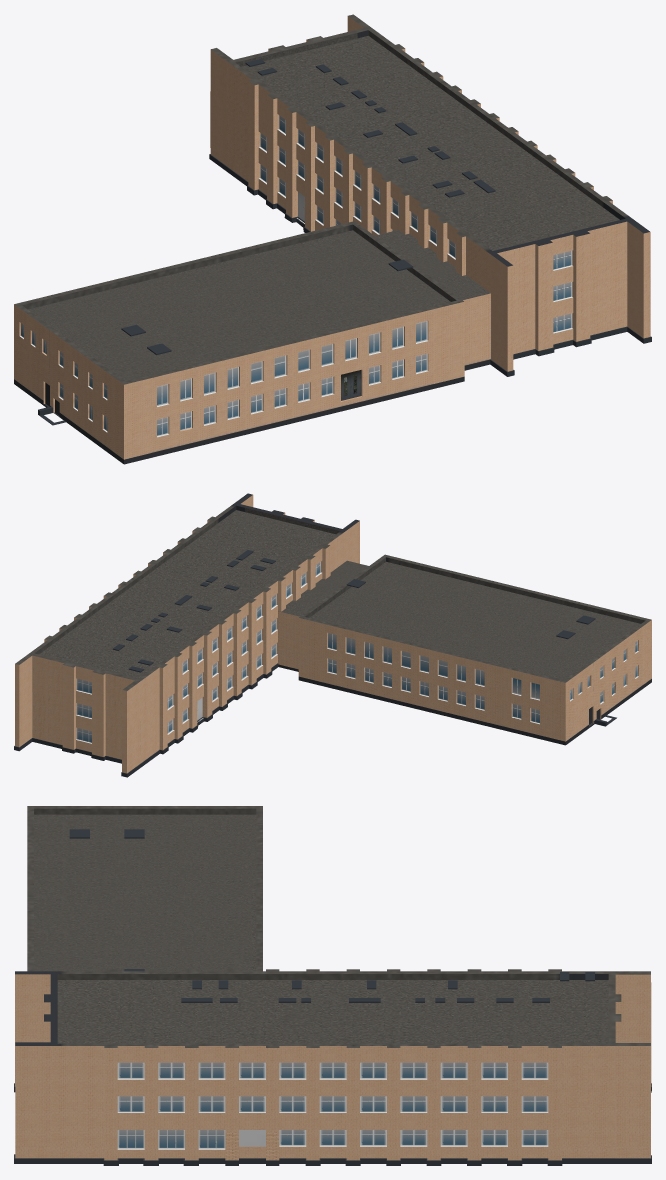
Rendered from lgebouweditor.gltf.
3 renders of one model, top to bottom at view 1: azimuth 30°, elevation 25°; view 2: azimuth 150°, elevation 25°; view 3: azimuth 270°, elevation 25°, orthographic. The views are drawn at different scales.
Visible parts, largest first — view 1: Object_5, Object_4, Object_6; view 2: Object_4, Object_5, Object_6; view 3: Object_4, Object_5, Object_6.
Boxes of the visible parts, x1,y1,x2,y2 form: Object_5: [14, 221, 490, 464]; Object_4: [210, 14, 650, 371]; Object_6: [38, 59, 651, 425]; Object_4: [15, 493, 359, 773]; Object_5: [278, 554, 651, 745]; Object_6: [14, 550, 616, 777]; Object_4: [15, 969, 651, 1160]; Object_5: [27, 806, 262, 971]; Object_6: [14, 829, 651, 1165].
Bounding box in the file's own units: 5658 × 1137 × 5418.
3 materials, 2 textured.
